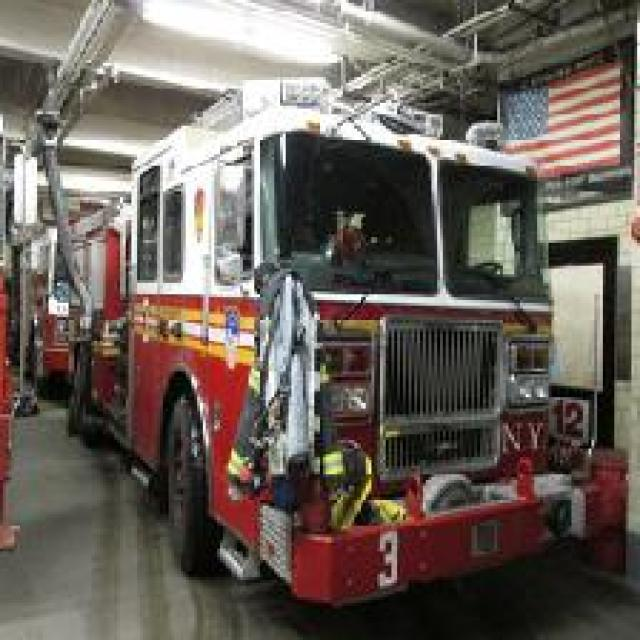emergency: (56, 82, 624, 610)
